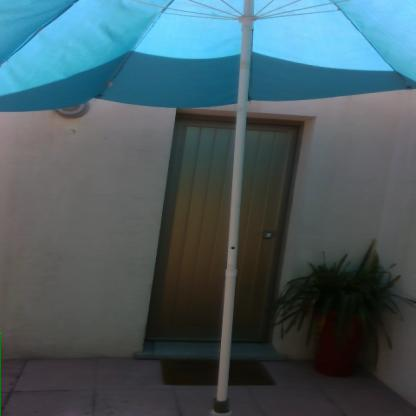door: (175, 121, 280, 346)
knob: (264, 230, 274, 240)
